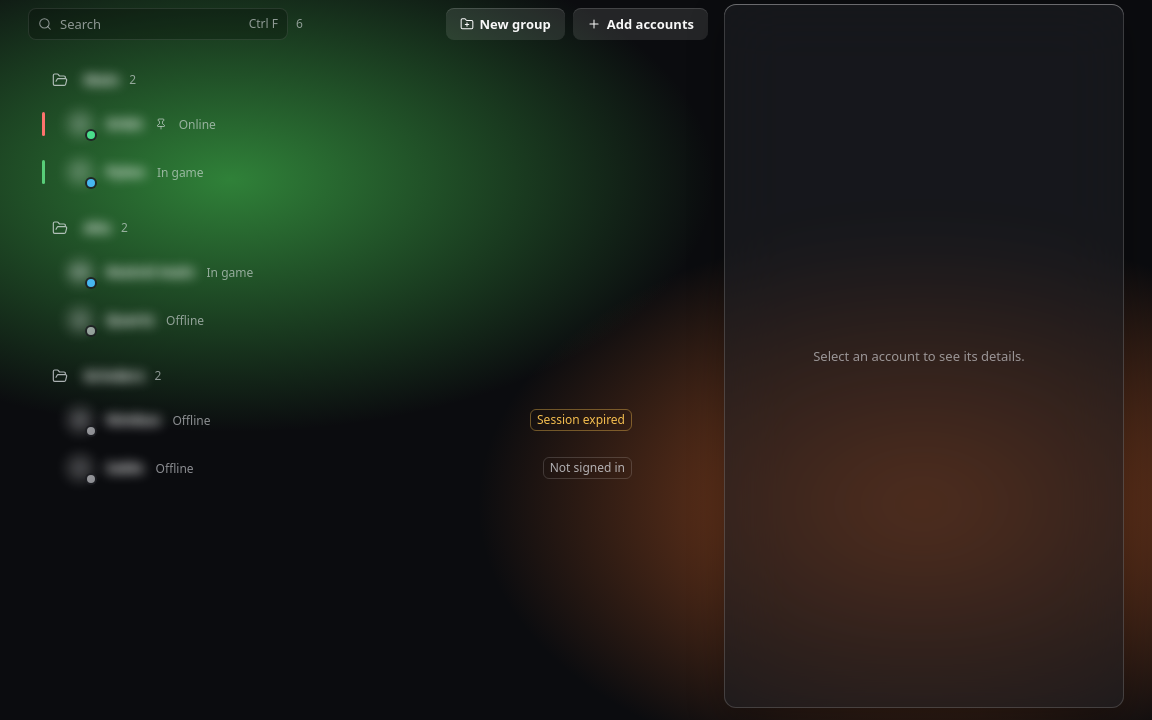
toolbar New group with nothing selected toasts a hint
Click the button "New group". click: (505, 24)
box: [446, 8, 565, 40]
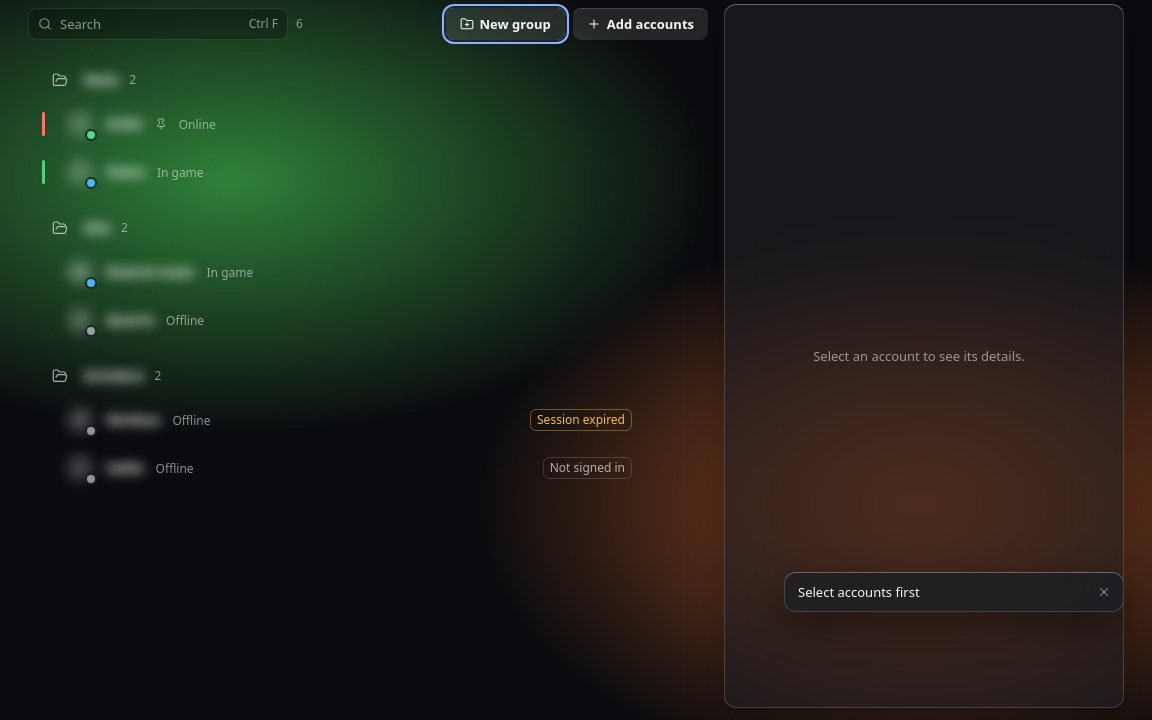
Result: the text "Select accounts first" is shown at [798, 583, 920, 601]
